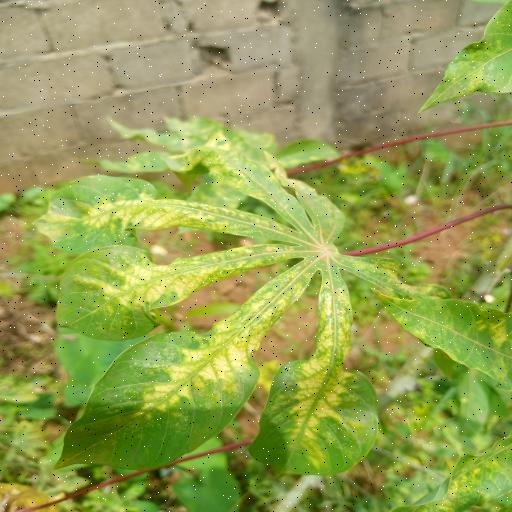Cassava_Mosaic: (35, 127, 476, 478)
